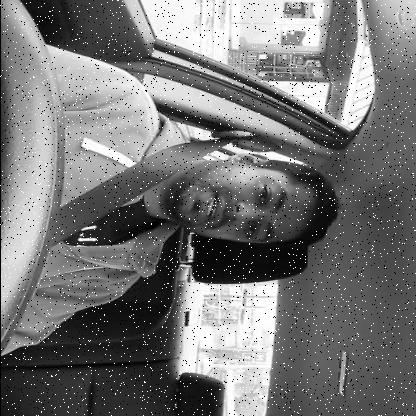seatbelt: (18, 118, 357, 270)
